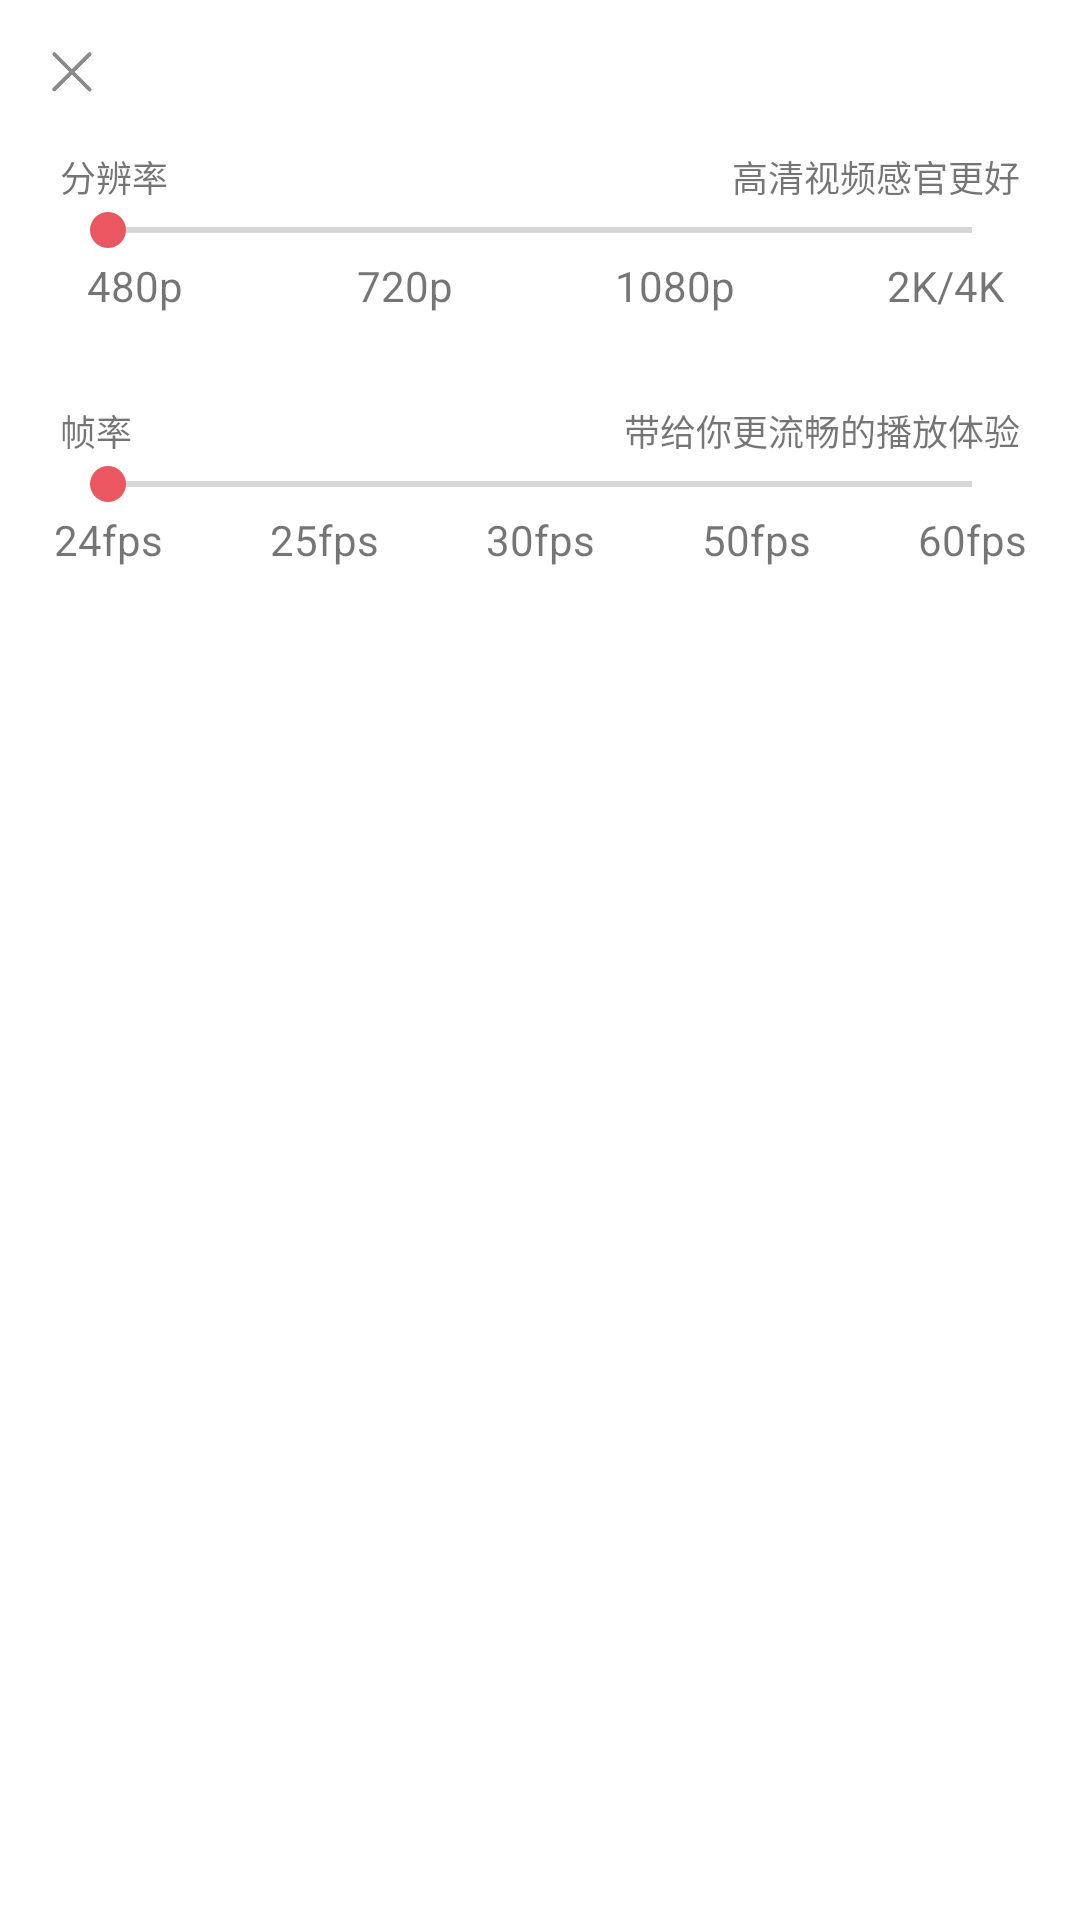

Point at icon controls on the screen. Image size 1080px×1920px, points as (x=x, y=y).
close: (x=72, y=72)
